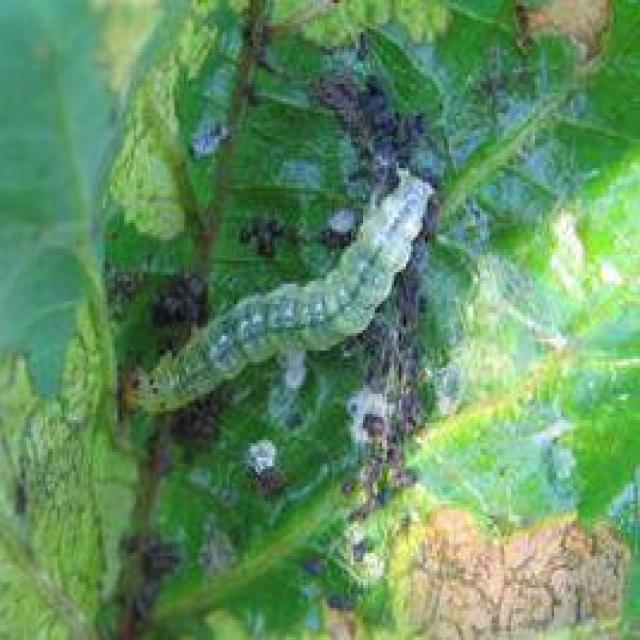BeetArmyWorm-Larva-: (115, 161, 447, 425)
